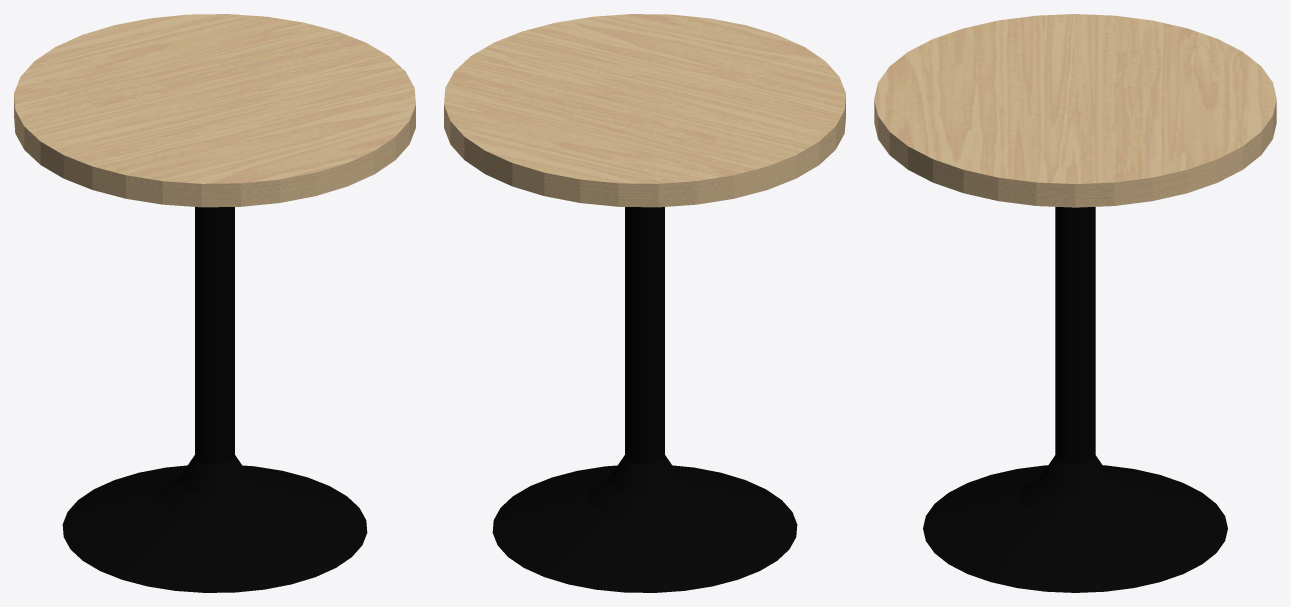
The model's file is テーブル.fbx.
3 views of the same model, side by side, from view 1: azimuth 30°, elevation 25°; view 2: azimuth 150°, elevation 25°; view 3: azimuth 270°, elevation 25° (orthographic).
Parts seen in each view (by area): view 1: テーブル, 足; view 2: テーブル, 足; view 3: テーブル, 足.
Boxes of the visible parts, <box> form: テーブル: <box>14,14,415,207</box>; 足: <box>62,207,367,592</box>; テーブル: <box>444,14,845,207</box>; 足: <box>492,207,797,592</box>; テーブル: <box>874,14,1276,207</box>; 足: <box>923,207,1227,592</box>.
Size of the model in its own units: 200 by 235 by 200.
2 materials, 1 textured.
